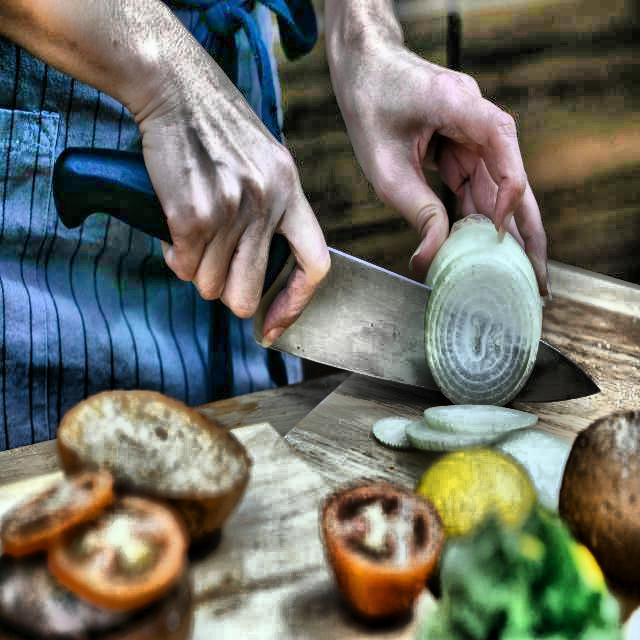knife: (56, 145, 604, 404)
